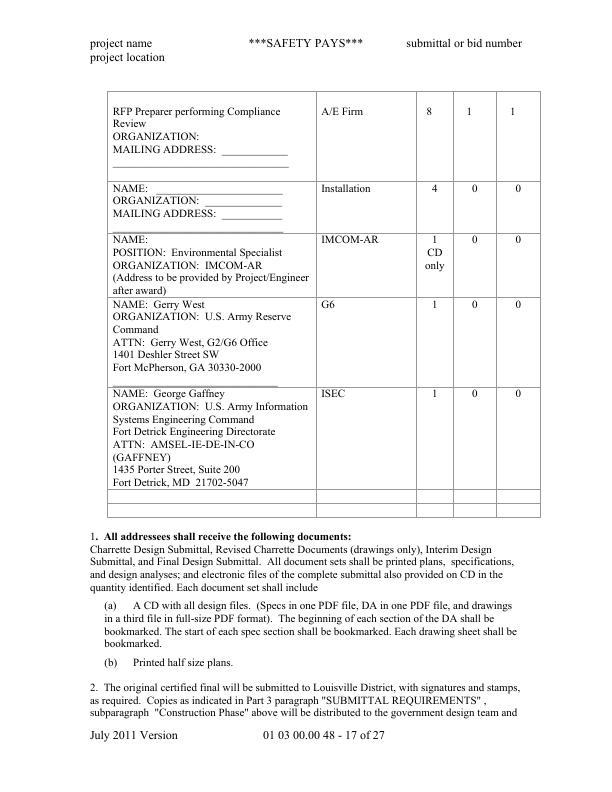table: (104, 88, 543, 521)
text: (85, 530, 525, 722), (83, 38, 173, 68), (244, 31, 366, 53), (404, 35, 527, 53)
